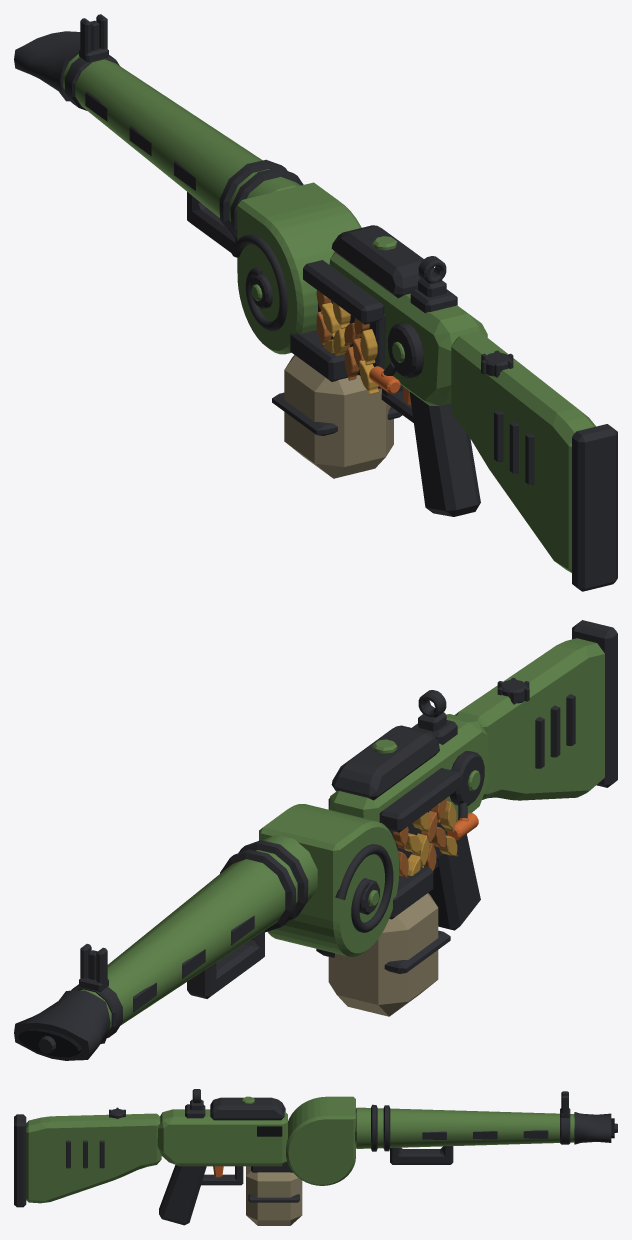
Rendered from w_lmg@lmg_leaf.glb.
The picture shows the model from 3 angles, top to bottom: view 1: azimuth 30°, elevation 25°; view 2: azimuth 150°, elevation 25°; view 3: azimuth 270°, elevation 25°; orthographic projection. The views are drawn at different scales.
Parts seen in each view (by area): view 1: body_wzA, stock_wzA, tube_wzA, mag_wzN, stock_wzB, grip_wzB, tube_wzB, cover_wzB, sight_wzN, duct_wzB, mag_wzB, body_wzN (+4 smaller); view 2: body_wzA, stock_wzA, tube_wzA, mag_wzN, tube_wzB, cover_wzB, sight_wzN, grip_wzB, stock_wzB, duct_wzB, body_wzN, stock_wzN (+5 smaller); view 3: body_wzA, stock_wzA, tube_wzA, mag_wzN, grip_wzB, tube_wzB, cover_wzB, stock_wzB, fore_wzB, sight_wzN, lmg_heat_wzN, mag_wzB (+3 smaller).
Boxes of the visible parts, bbox=[...] form: body_wzA: bbox=[237, 182, 487, 405]; stock_wzA: bbox=[451, 331, 595, 572]; tube_wzA: bbox=[63, 54, 300, 221]; mag_wzN: bbox=[284, 355, 393, 478]; stock_wzB: bbox=[572, 424, 617, 591]; grip_wzB: bbox=[409, 391, 480, 516]; tube_wzB: bbox=[14, 31, 303, 238]; cover_wzB: bbox=[331, 225, 434, 298]; sight_wzN: bbox=[65, 14, 457, 313]; duct_wzB: bbox=[303, 260, 385, 388]; mag_wzB: bbox=[272, 330, 402, 435]; body_wzN: bbox=[231, 234, 287, 331]; body_wzA: bbox=[259, 714, 489, 956]; stock_wzA: bbox=[455, 638, 604, 800]; tube_wzA: bbox=[80, 835, 317, 1029]; mag_wzN: bbox=[328, 893, 438, 1016]; tube_wzB: bbox=[14, 840, 308, 1060]; cover_wzB: bbox=[331, 725, 439, 800]; sight_wzN: bbox=[71, 690, 457, 1037]; grip_wzB: bbox=[428, 831, 480, 930]; stock_wzB: bbox=[572, 620, 617, 787]; duct_wzB: bbox=[379, 768, 460, 876]; body_wzN: bbox=[335, 844, 393, 932]; stock_wzN: bbox=[497, 677, 575, 768]; body_wzA: bbox=[157, 1096, 355, 1185]; stock_wzA: bbox=[26, 1113, 161, 1203]; tube_wzA: bbox=[355, 1107, 574, 1148]; mag_wzN: bbox=[246, 1166, 302, 1225]; grip_wzB: bbox=[159, 1165, 206, 1225]; tube_wzB: bbox=[371, 1104, 611, 1151]; cover_wzB: bbox=[210, 1097, 284, 1120]; stock_wzB: bbox=[14, 1114, 26, 1207]; fore_wzB: bbox=[390, 1146, 453, 1164]; sight_wzN: bbox=[185, 1089, 570, 1144]; lmg_heat_wzN: bbox=[422, 1123, 617, 1139]; mag_wzB: bbox=[248, 1162, 299, 1202].
Bounding box in the file's own units: 0.156 × 0.3564 × 1.43.
